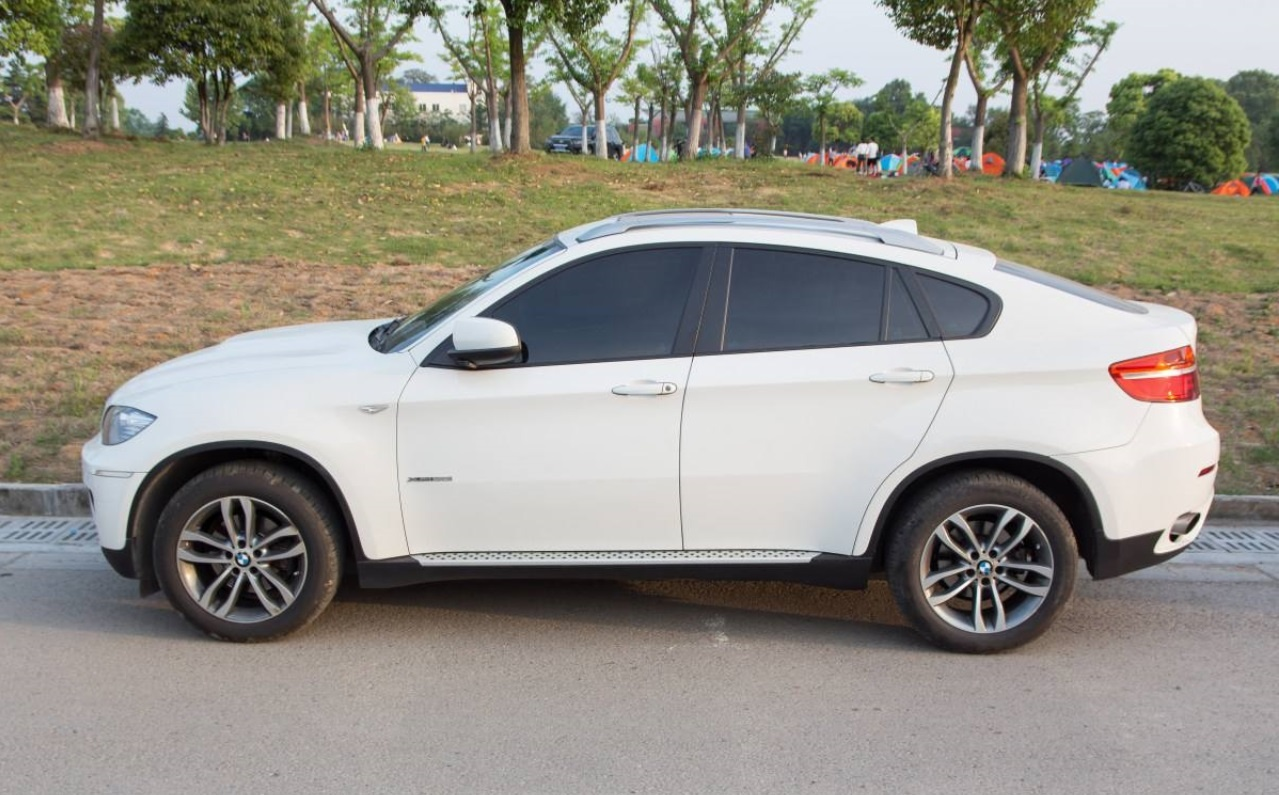family sedan: (57, 196, 1218, 638)
